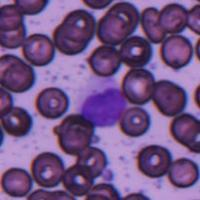L: (75, 76, 129, 128)
